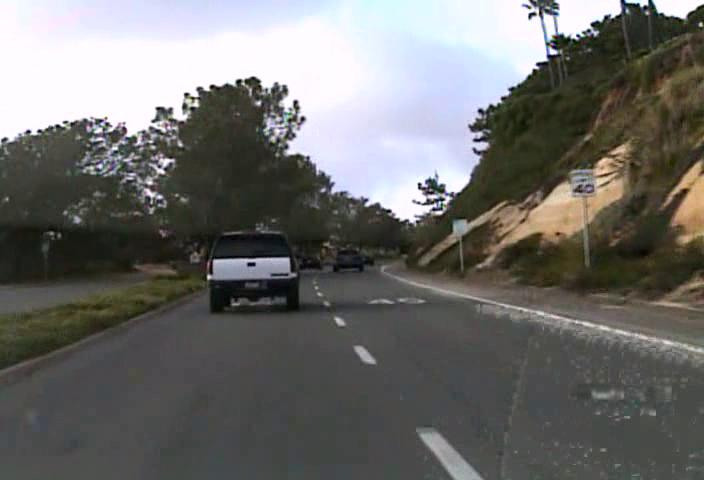speedLimit40: (568, 167, 596, 197)
